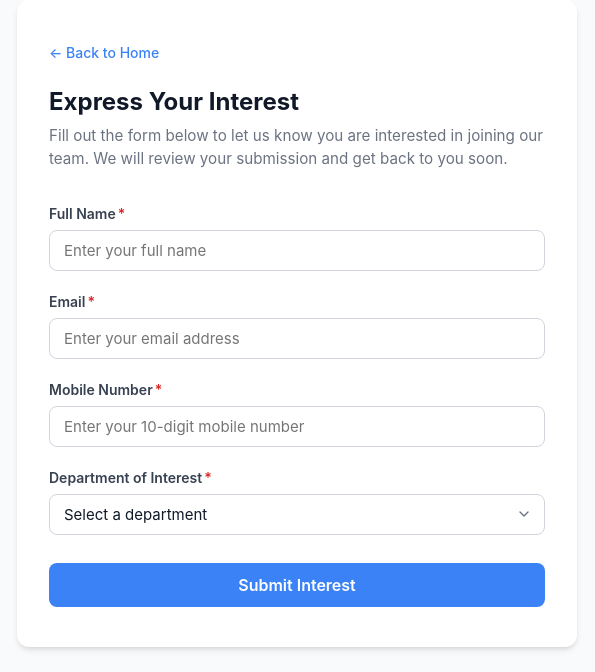
Test case: InterestForm › duplicate email error › shows duplicate email error when email already exists
Type "John Doe" into the field labelled "Full Name*" at [297, 250], box [49,230,545,271]
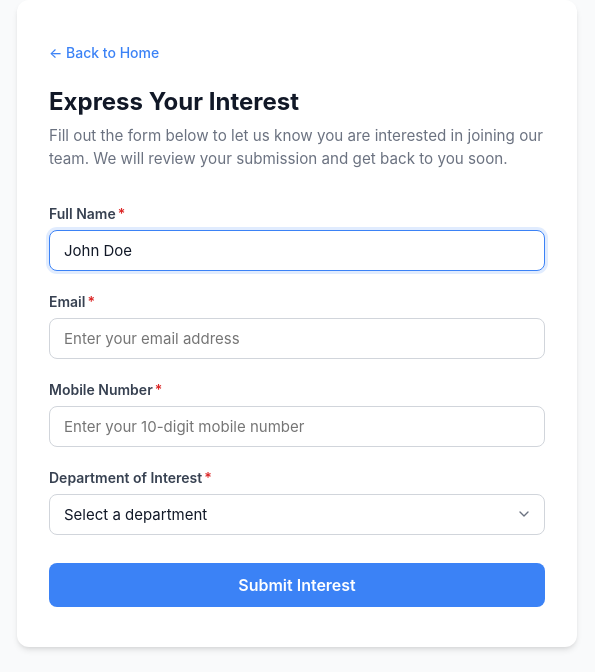
Type "john@example.com" into the field labelled "Email*" at [297, 338], box [49,318,545,359]
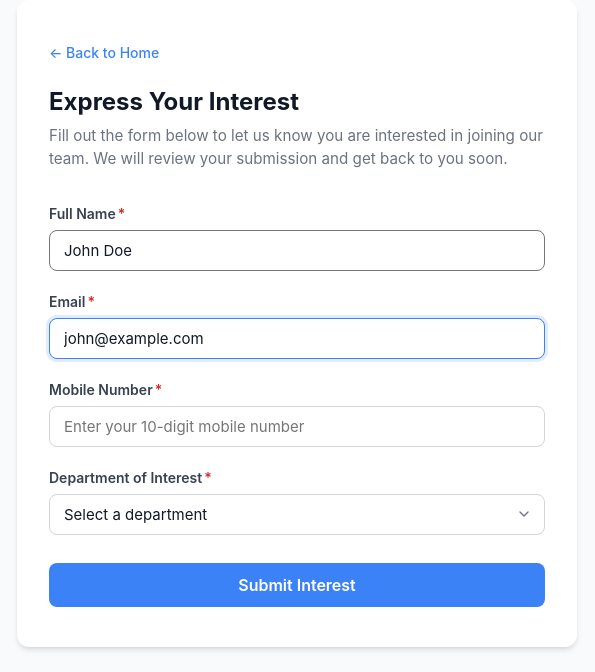
Type "1234567890" into the field labelled "Mobile Number*" at [297, 426], box [49,406,545,447]
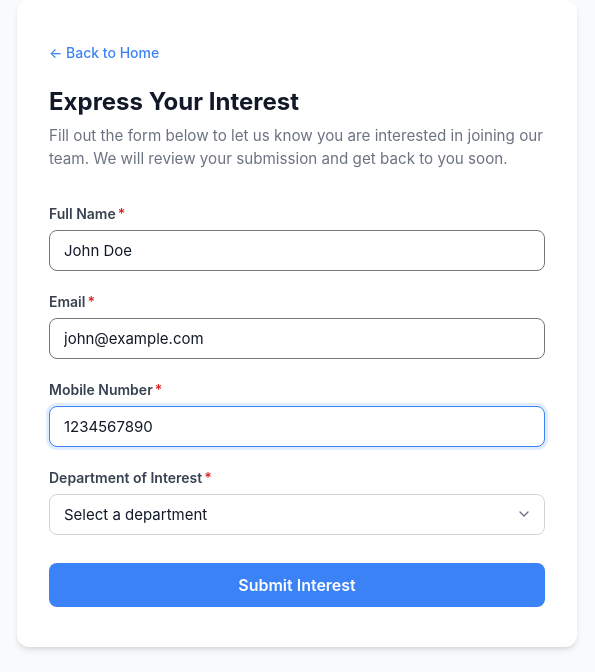
Select "Engineering" in the dropdown labelled "Department of Interest*" at [297, 514], box [49,494,545,535]
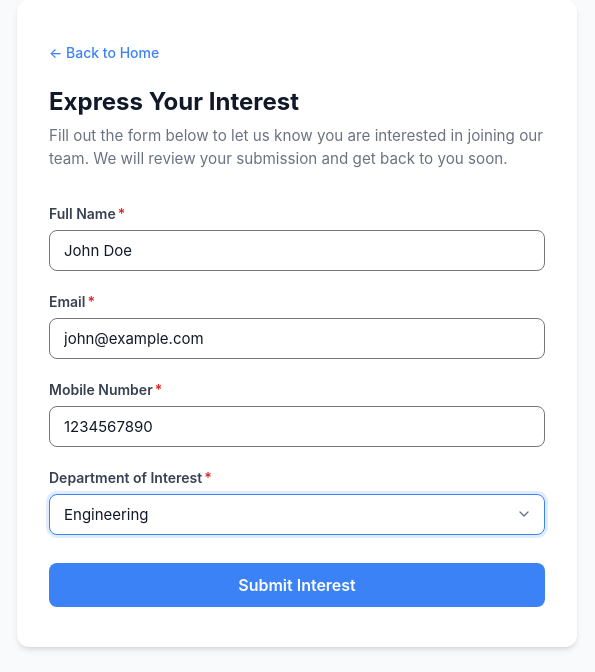
Click the button "Submit Interest" at [297, 585], box [49,563,545,607]
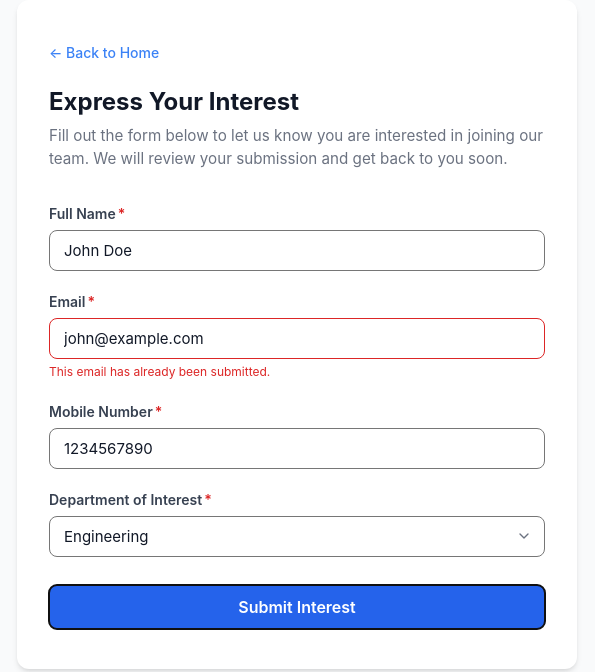
Now the text "This email has already been submitted." is shown, box [49,364,270,379]
